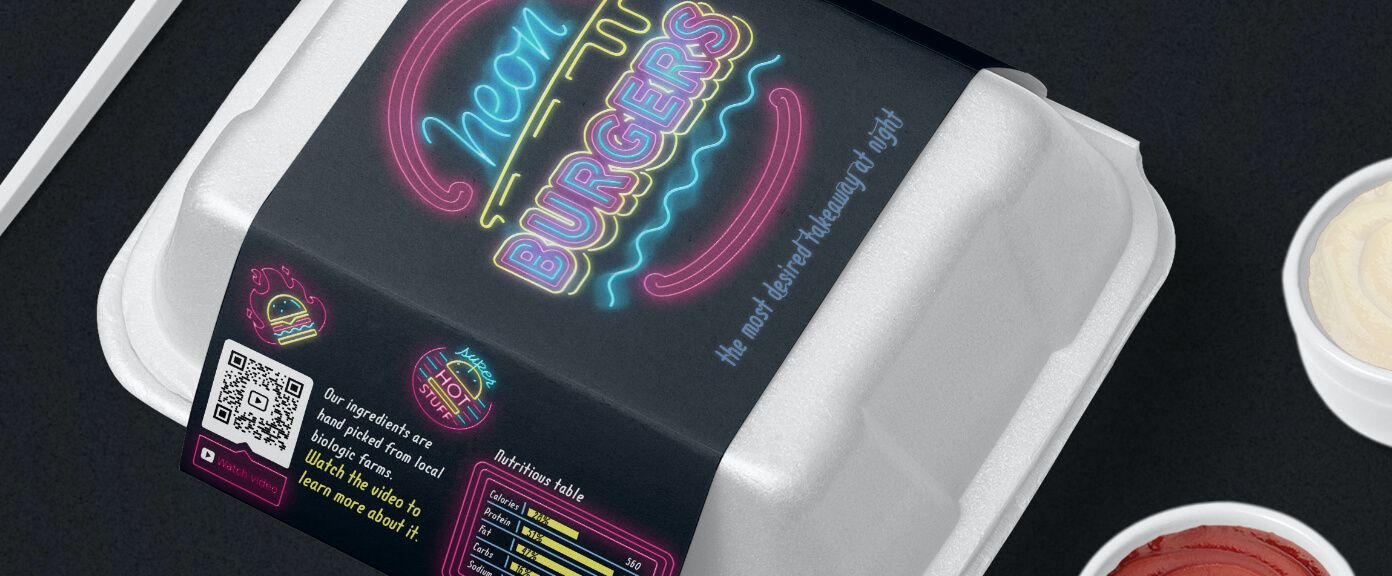qr_code: (199, 329, 308, 453)
